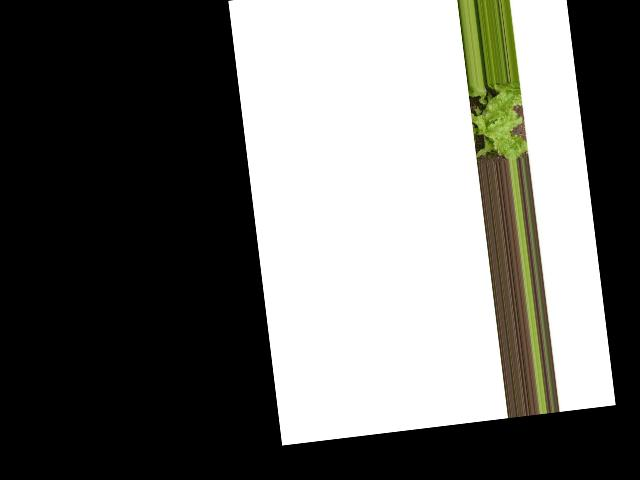lettuce: (464, 80, 526, 163)
